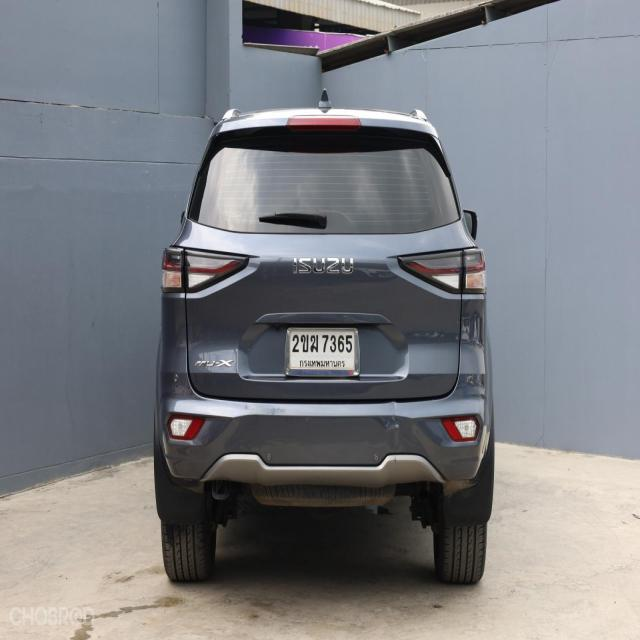license_plate: (282, 322, 363, 387)
